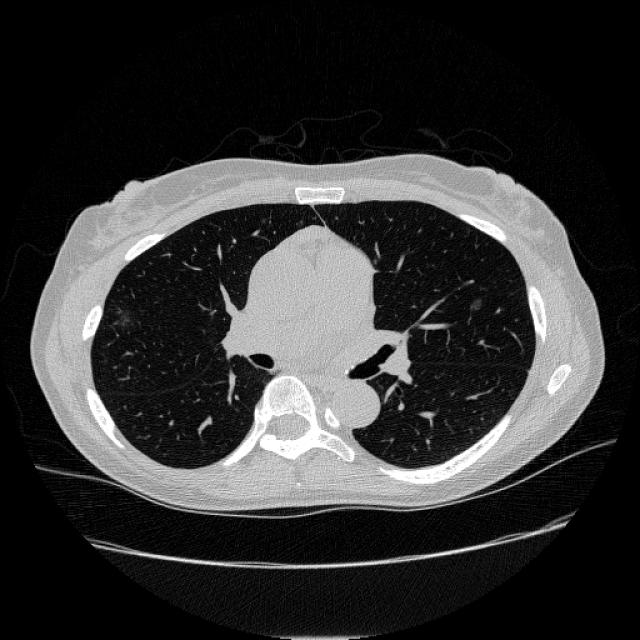nodule: (462, 292, 488, 316)
